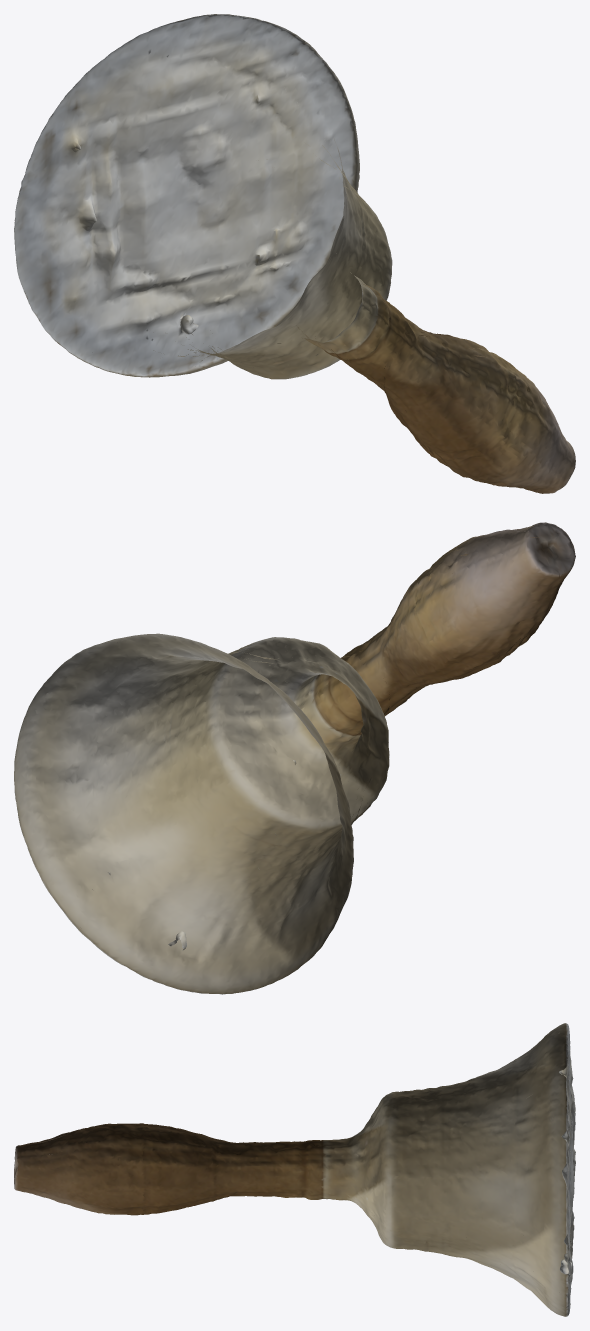
File: bell.glb
3 views of the same model, one above another, from view 1: azimuth 30°, elevation 25°; view 2: azimuth 150°, elevation 25°; view 3: azimuth 270°, elevation 25° (orthographic). The views are drawn at different scales.
Bounding box in the file's own units: 0.5237 × 0.5185 × 0.9999.
